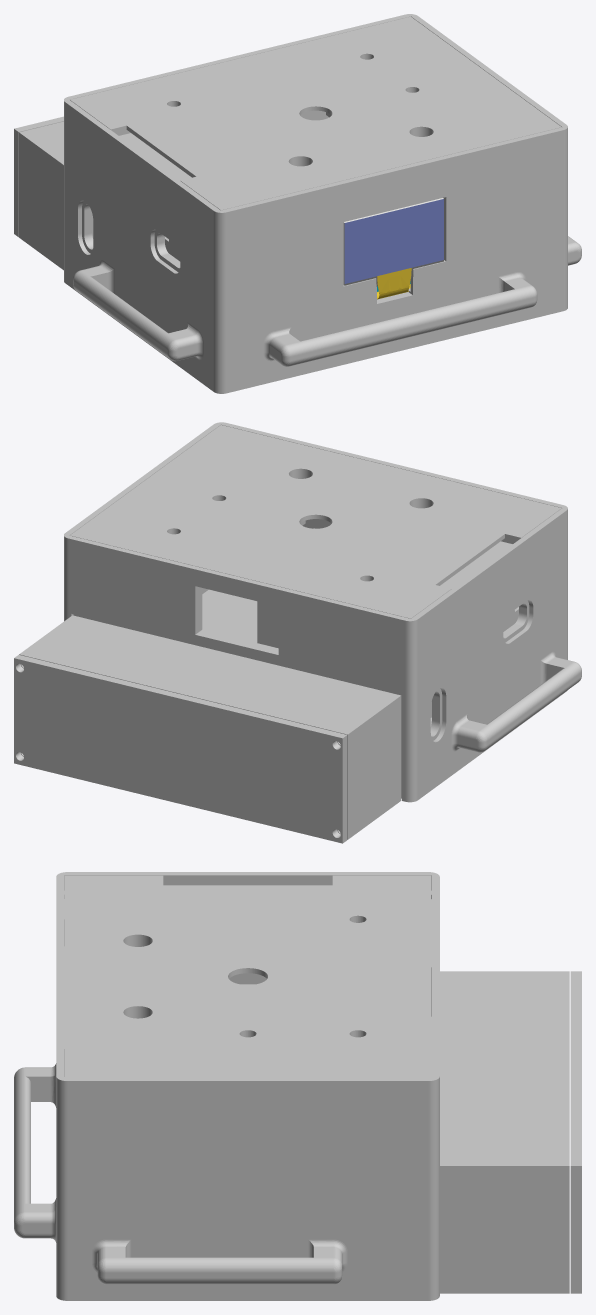
File: IT-Heartbeat.gltf
3 views of the same model, one above another, from view 1: azimuth 30°, elevation 25°; view 2: azimuth 150°, elevation 25°; view 3: azimuth 270°, elevation 25° (orthographic). The views are drawn at different scales.
Visible parts, largest first — view 1: Node15, Node13, Node14; view 2: Node15; view 3: Node15.
Part boxes in pixels (x1,y1,x2,y2): Node15: (14, 14, 581, 393); Node13: (344, 199, 443, 283); Node14: (377, 268, 411, 299); Node15: (14, 422, 581, 843); Node15: (14, 872, 581, 1300).
Size of the model in its own units: 103 by 43.2 by 101.
